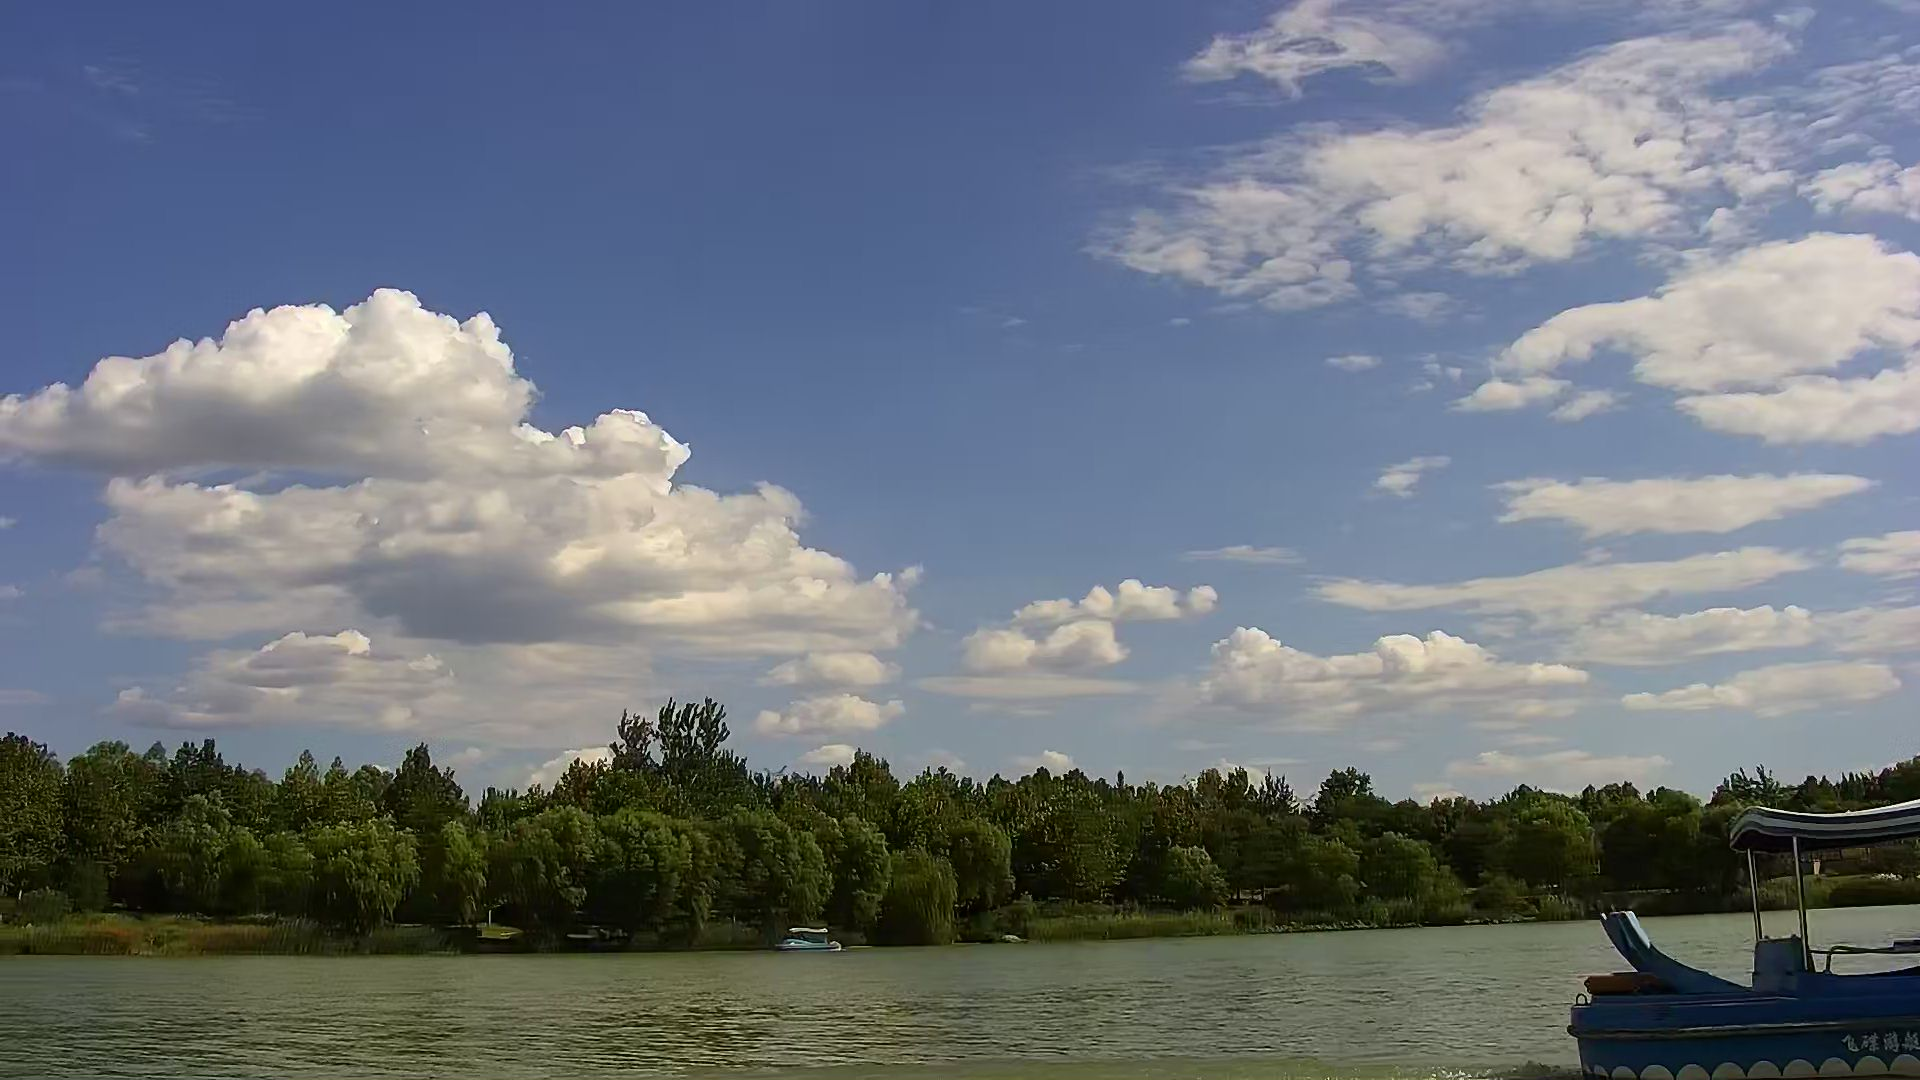boat: (1573, 789, 1913, 1080), (775, 920, 849, 955)
